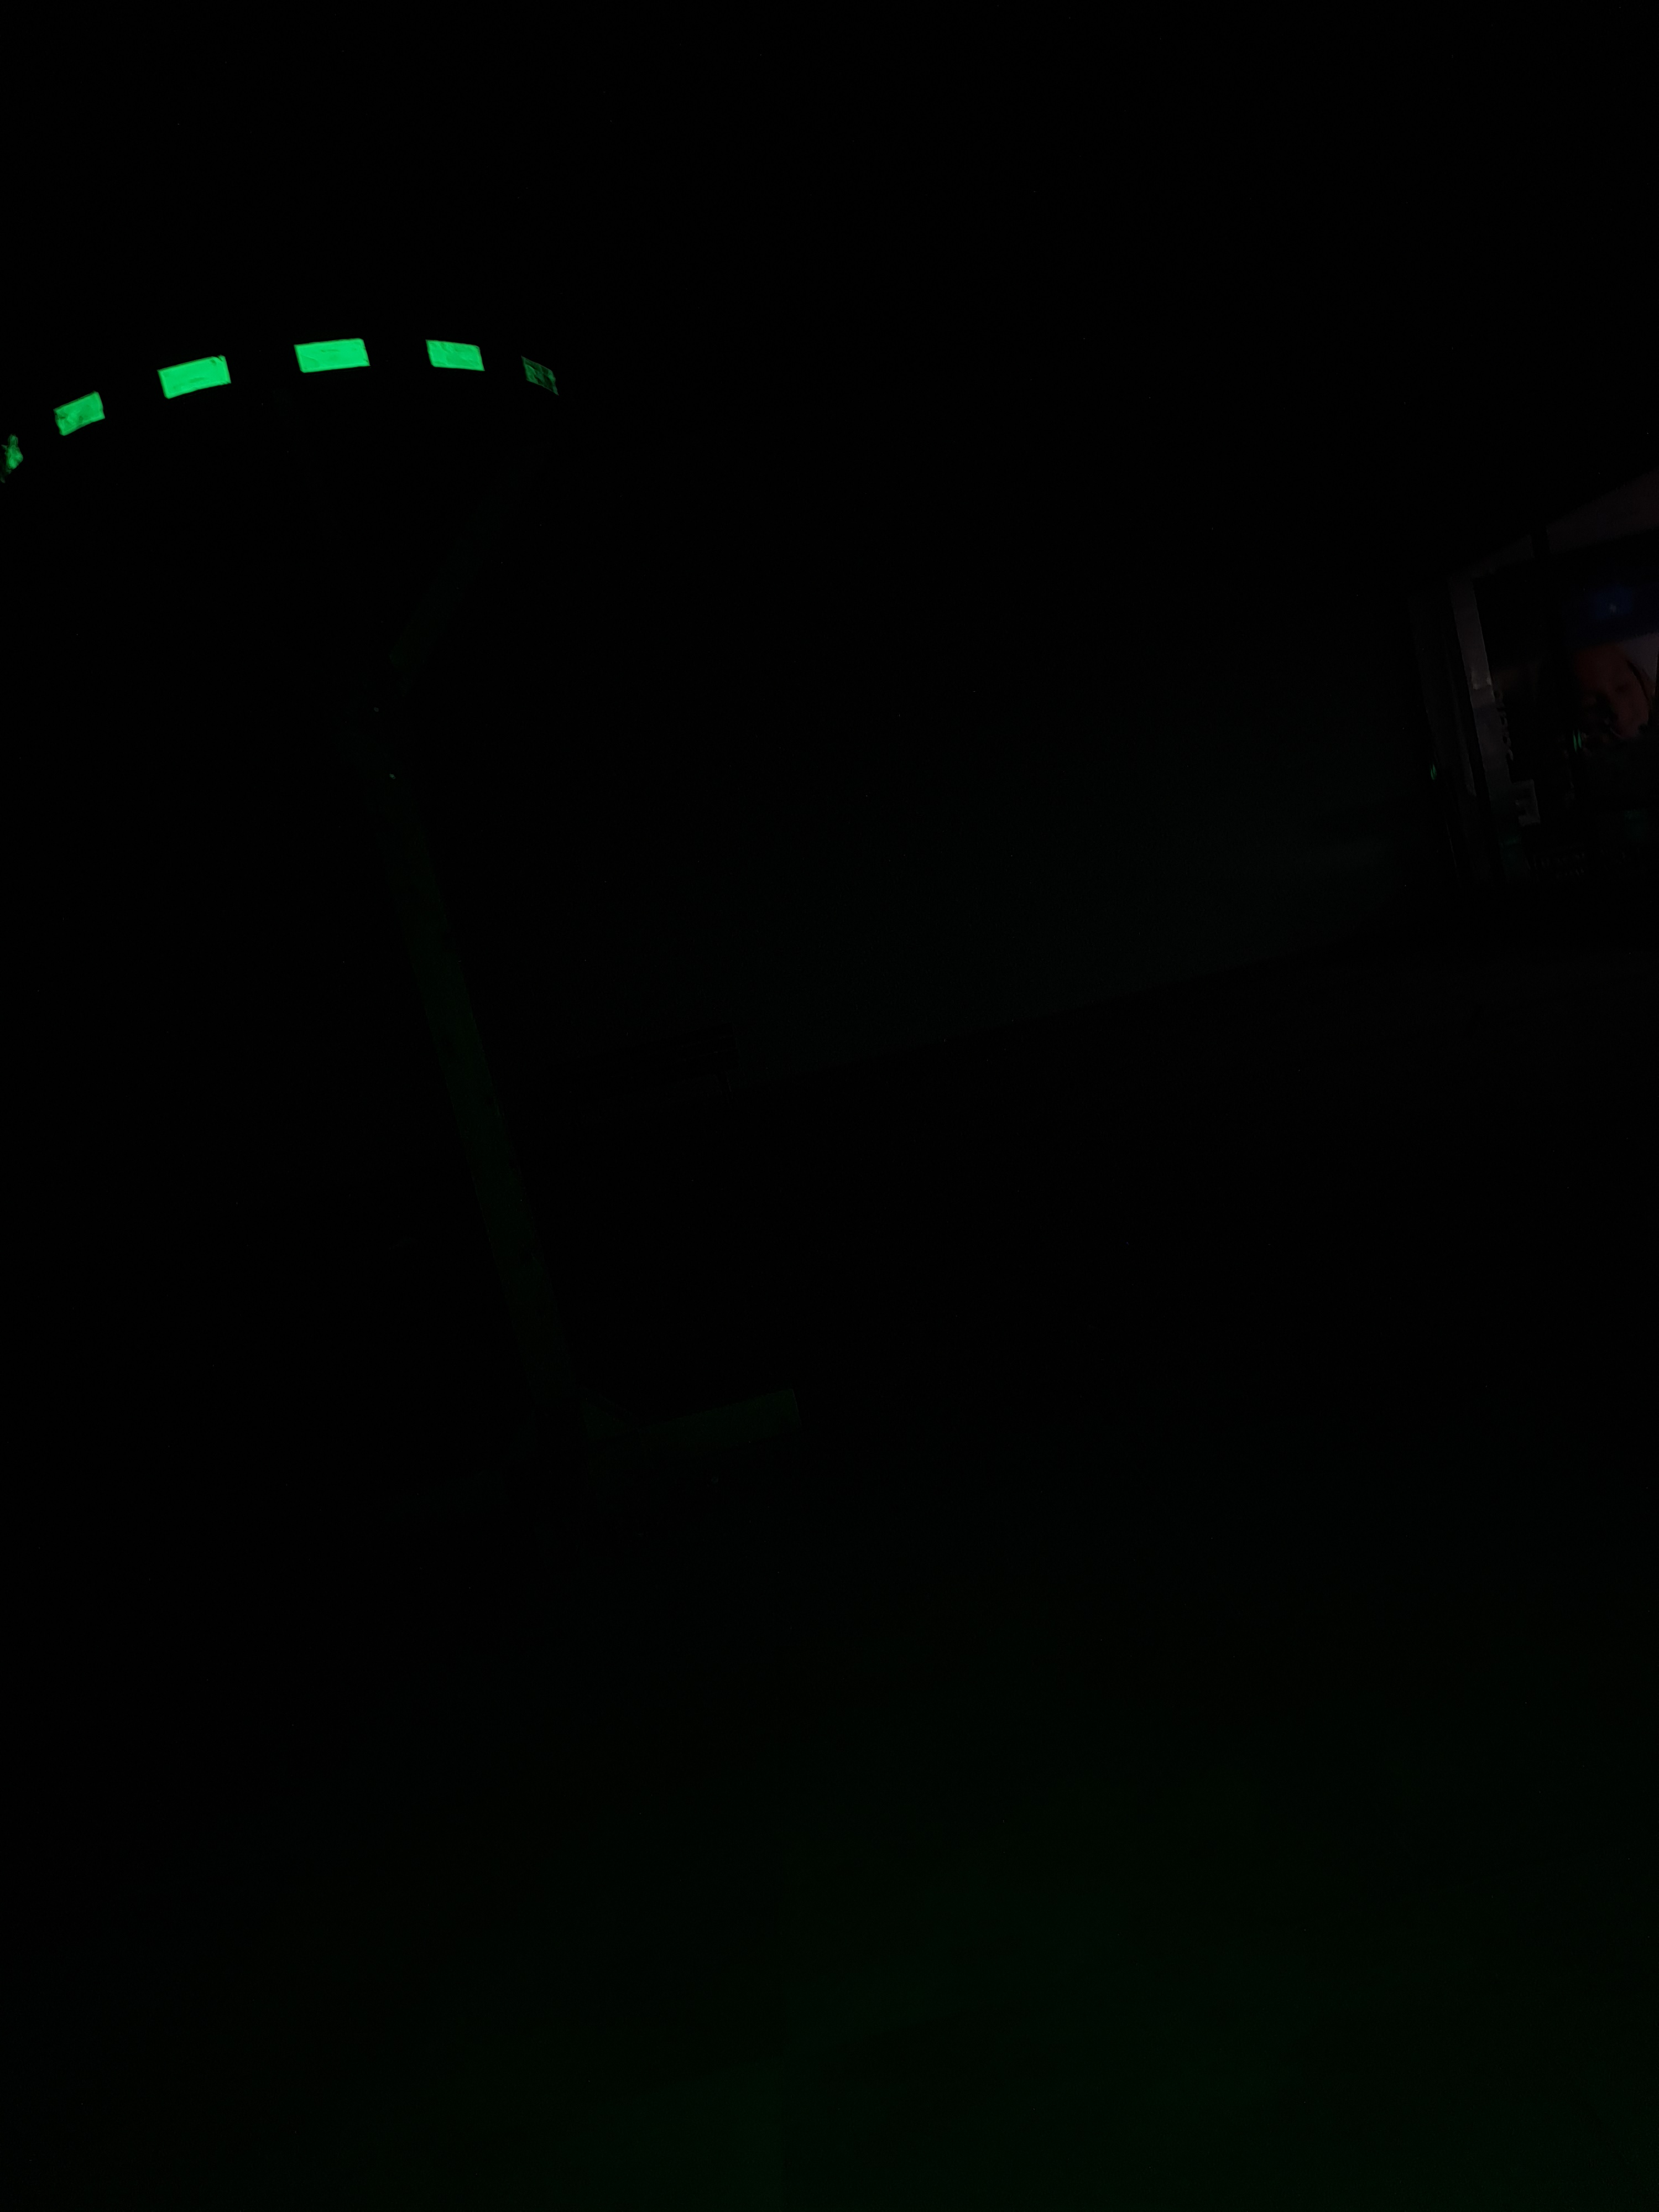hoop: (3, 320, 566, 495)
